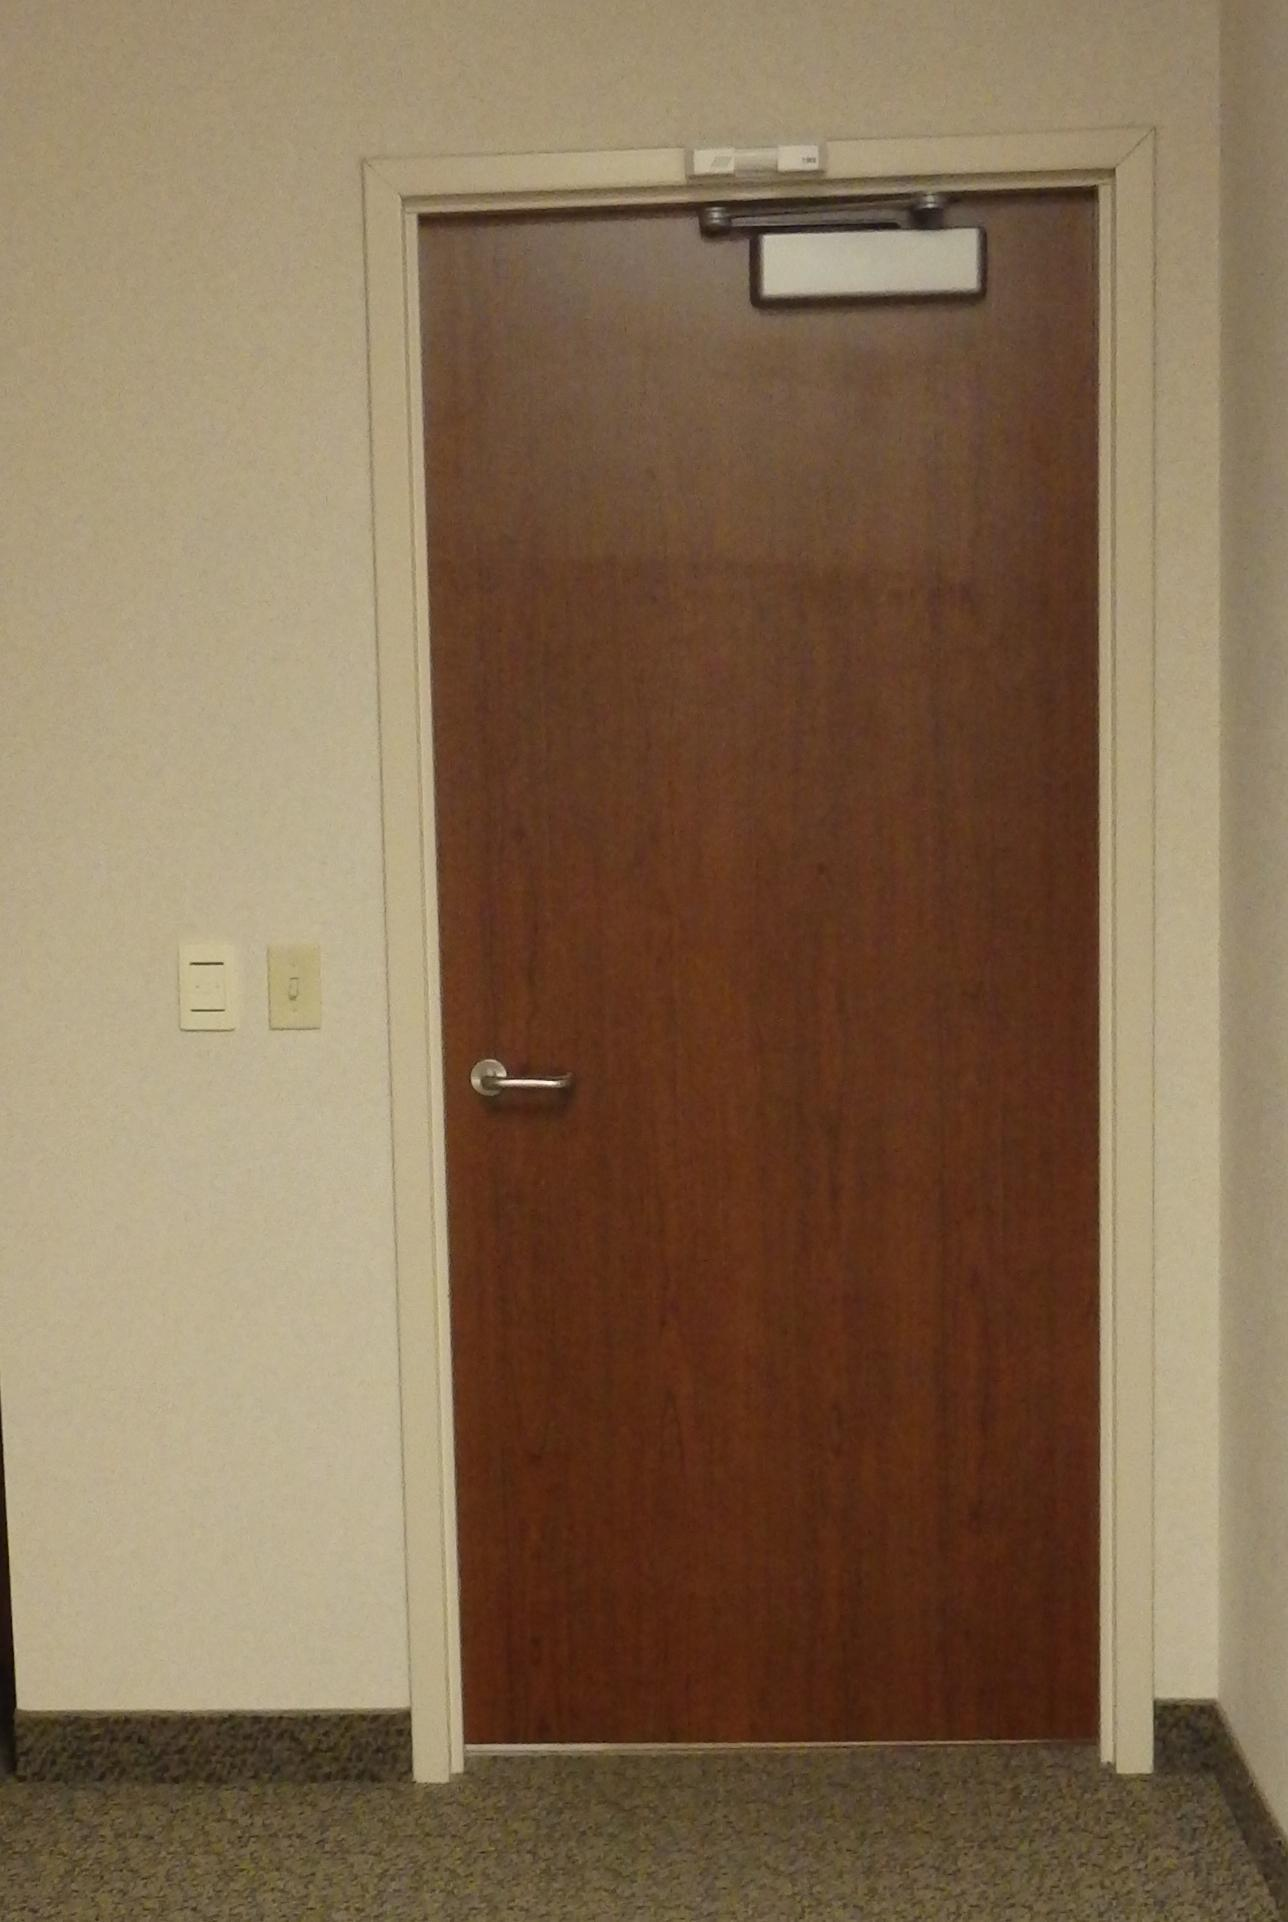door: (392, 193, 1128, 1762)
